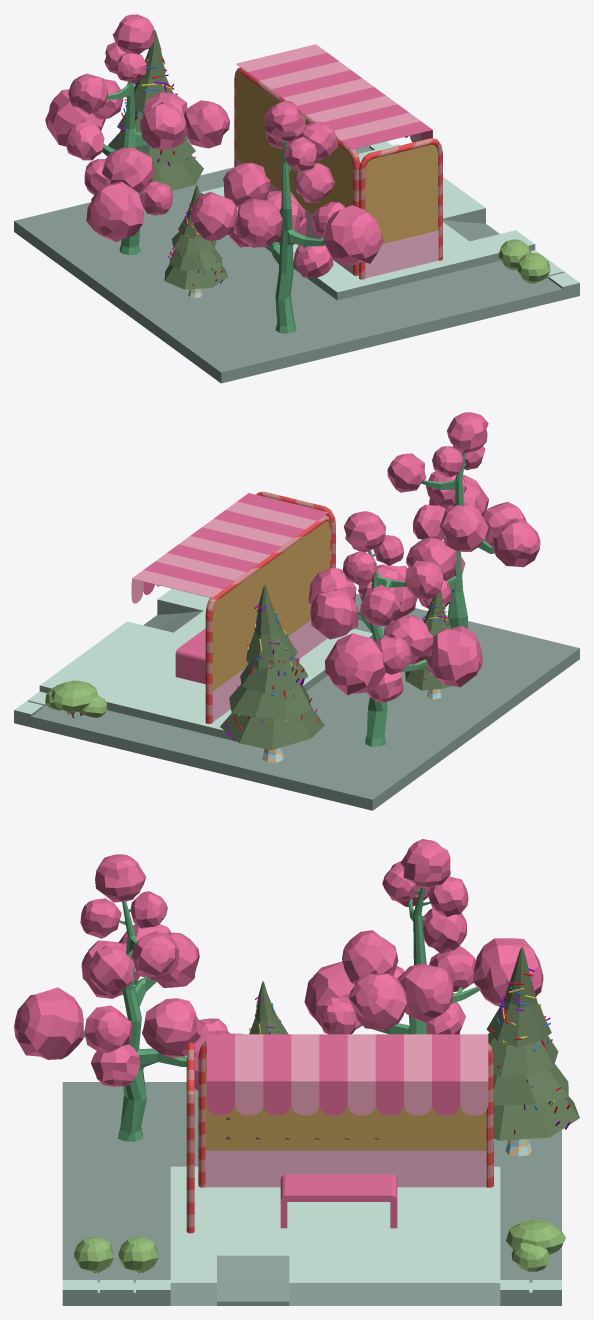
Rendered from D2_BUS_STOP.fbx.
3 renders of one model, top to bottom at view 1: azimuth 30°, elevation 25°; view 2: azimuth 150°, elevation 25°; view 3: azimuth 270°, elevation 25°, orthographic. The views are drawn at different scales.
Parts seen in each view (by area): view 1: Plane.003, Tree_stem_01.025, Tree_stem_01.024, Plane.010, Plane.008, Plane.006, Pine_Trees_Pack_Tree_stem_01.018, Pine_Trees_Pack_Tree_stem_01.019, Cube.009, Plane.004, Plane.005, Bushes_bush_stem_02.020 (+1 smaller); view 2: Plane.003, Tree_stem_01.025, Tree_stem_01.024, Plane.010, Pine_Trees_Pack_Tree_stem_01.018, Plane.006, Plane.005, Bushes_bush_01.010, Plane.009, Pine_Trees_Pack_Tree_stem_01.019, Plane.007, Plane.004; view 3: Plane.003, Tree_stem_01.024, Plane.010, Tree_stem_01.025, Plane.006, Pine_Trees_Pack_Tree_stem_01.018, Plane.009, Plane.007, Bushes_bush_01.010, Plane.005, Plane.004, Bushes_bush_stem_02.021 (+2 smaller).
Part boxes in pixels (x1,y1,x2,y2): Plane.003: [14, 141, 579, 383]; Tree_stem_01.025: [45, 14, 229, 254]; Tree_stem_01.024: [191, 101, 383, 333]; Plane.010: [236, 44, 432, 149]; Plane.008: [365, 144, 437, 244]; Plane.006: [236, 73, 352, 214]; Pine_Trees_Pack_Tree_stem_01.018: [108, 30, 203, 195]; Pine_Trees_Pack_Tree_stem_01.019: [164, 185, 228, 298]; Cube.009: [365, 231, 438, 278]; Plane.004: [359, 138, 442, 279]; Plane.005: [234, 67, 359, 276]; Bushes_bush_stem_02.020: [517, 253, 550, 283]; Plane.003: [14, 588, 579, 810]; Tree_stem_01.025: [308, 511, 482, 746]; Tree_stem_01.024: [376, 412, 540, 628]; Plane.010: [131, 493, 328, 603]; Pine_Trees_Pack_Tree_stem_01.018: [220, 584, 324, 762]; Plane.006: [212, 521, 329, 691]; Plane.005: [205, 515, 331, 723]; Bushes_bush_01.010: [45, 680, 107, 718]; Plane.009: [212, 620, 327, 721]; Pine_Trees_Pack_Tree_stem_01.019: [405, 591, 454, 699]; Plane.007: [175, 628, 205, 684]; Plane.004: [256, 491, 335, 568]; Plane.003: [62, 1082, 561, 1305]; Tree_stem_01.024: [14, 854, 243, 1141]; Plane.010: [207, 1034, 488, 1115]; Tree_stem_01.025: [304, 839, 543, 1034]; Plane.006: [205, 1053, 486, 1150]; Pine_Trees_Pack_Tree_stem_01.018: [486, 947, 579, 1156]; Plane.009: [205, 1150, 486, 1187]; Plane.007: [280, 1174, 397, 1228]; Bushes_bush_01.010: [506, 1219, 565, 1271]; Plane.005: [198, 1040, 493, 1187]; Plane.004: [186, 1042, 194, 1233]; Bushes_bush_stem_02.021: [118, 1236, 158, 1272].
Size of the model in its own units: 1133 by 694 by 1231.
Materials: 16 (2 with a texture image).
